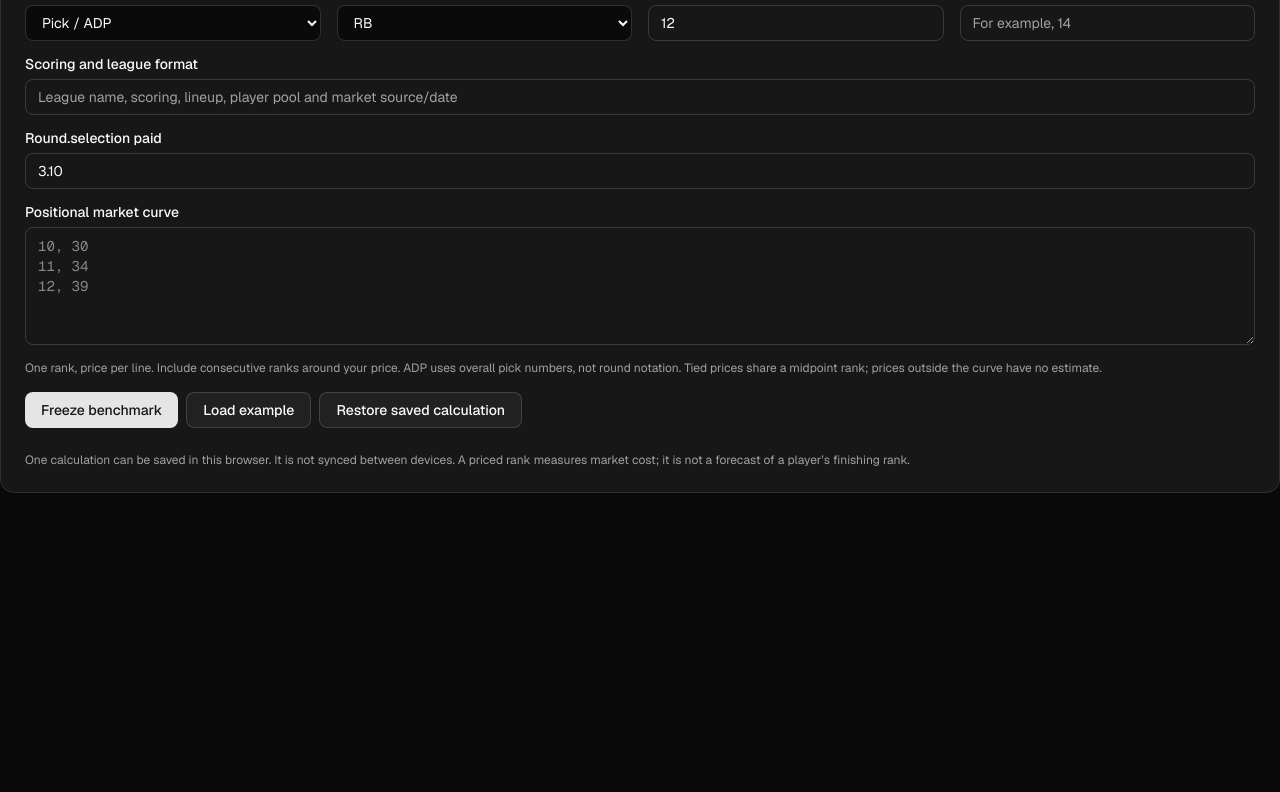
DraftValueCalculator › keeps RB11 fixed while the user records both +4 and −7 weekly outcomes
Click the button "Load example".
click(249, 410)  # box [186,392,311,428]
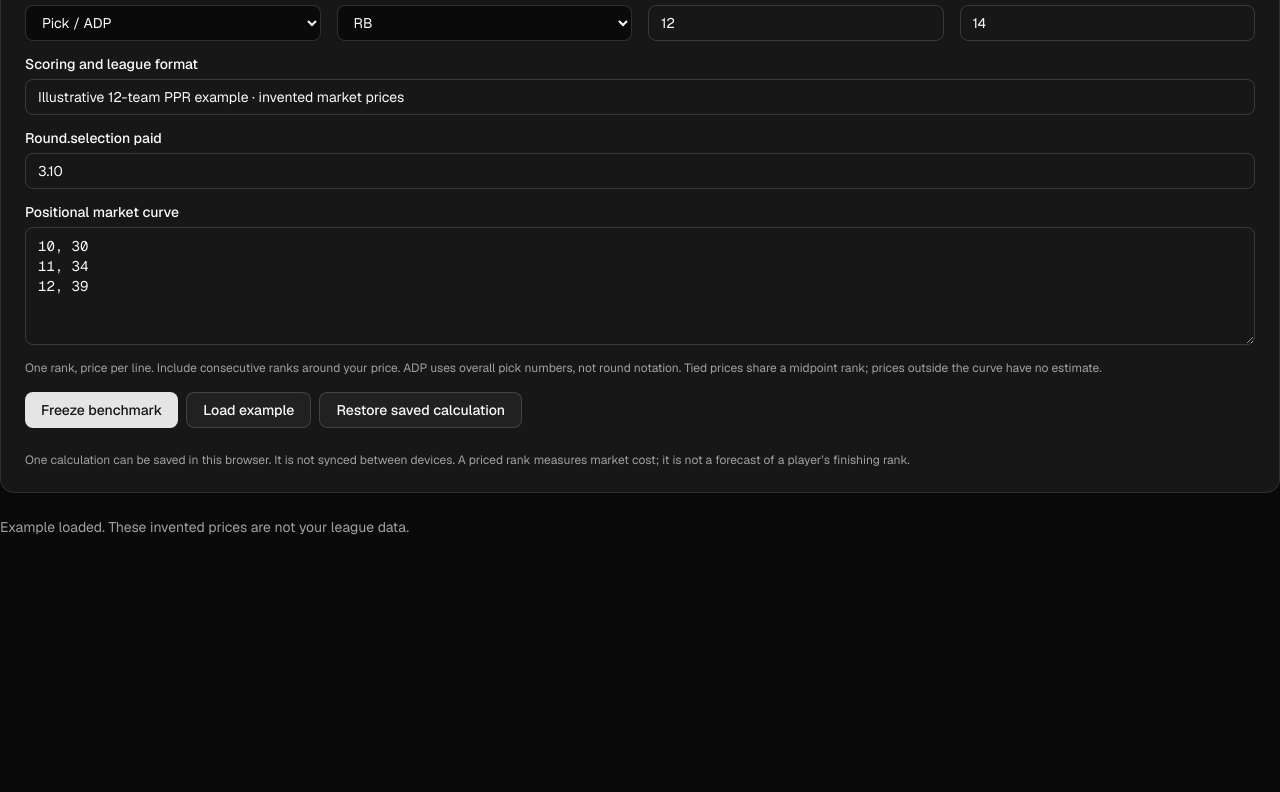
Click the button "Freeze benchmark".
click(102, 410)  # box [25,392,178,428]
(page scrolled)
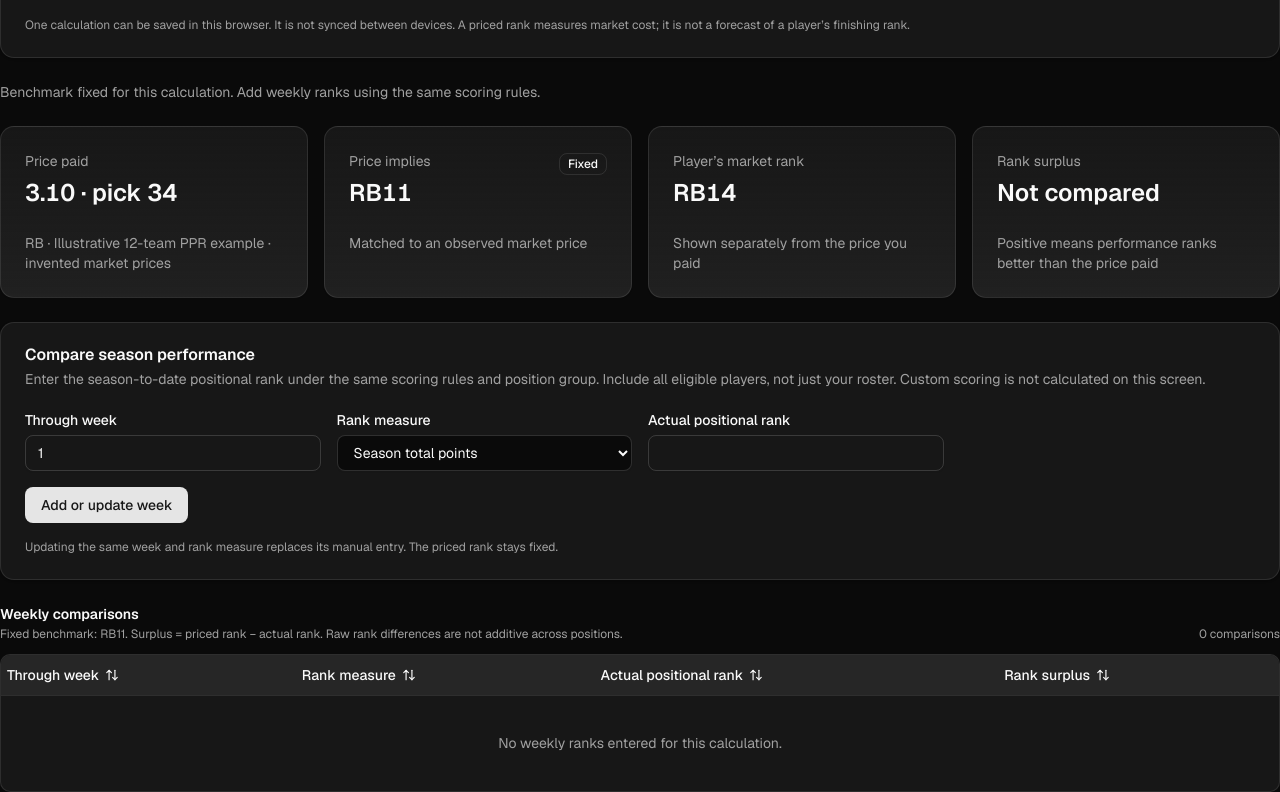
Result: the text "RB11" is shown at [349,177,412,208]
Result: the text "RB14" is shown at [673,177,736,208]
Replace the text in the field labelled "Through week" with "6" at (173, 453), box [25,435,320,471]
Type "7" into the field labelled "Actual positional rank".
click(796, 453); type("7")  # box [648,435,944,471]
Click the button "Add or update week".
click(107, 505)  # box [25,487,188,523]
(page scrolled)
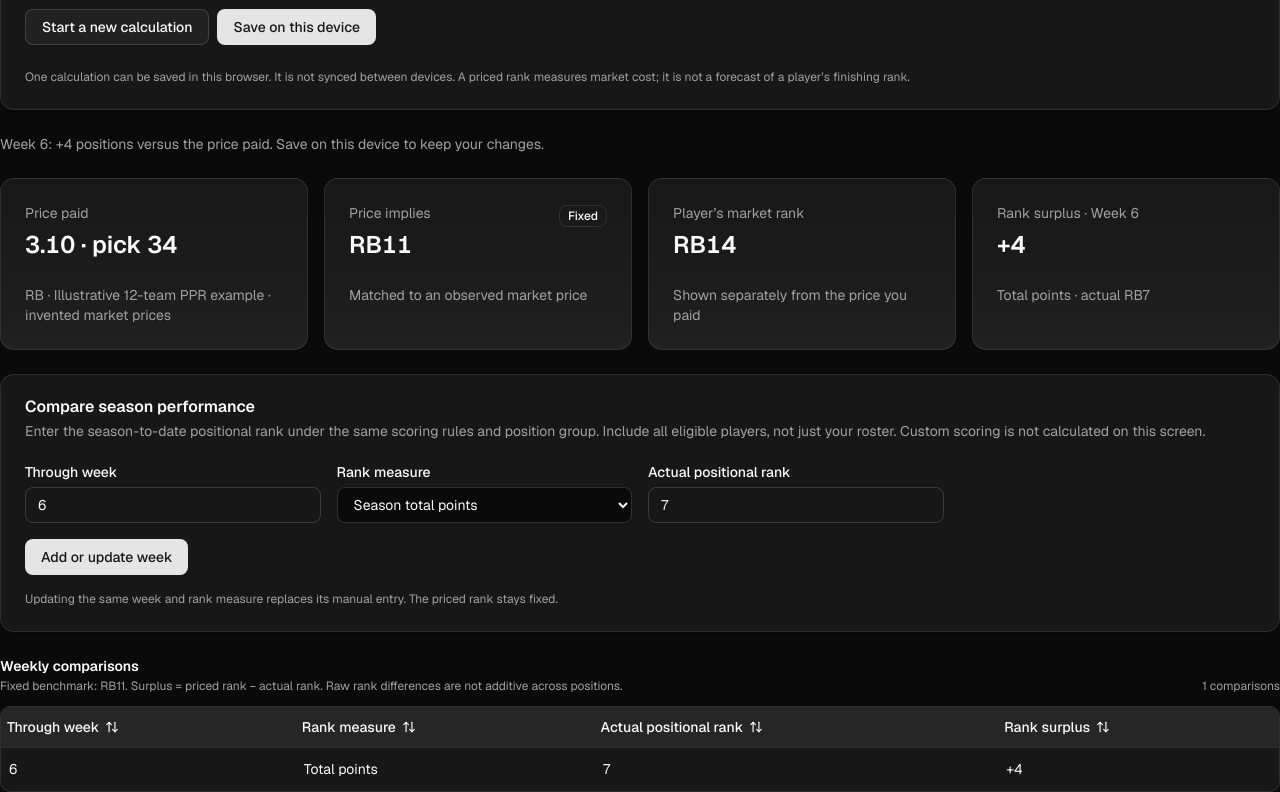
Replace the text in the field labelled "Through week" with "7" at (173, 505), box [25,487,320,523]
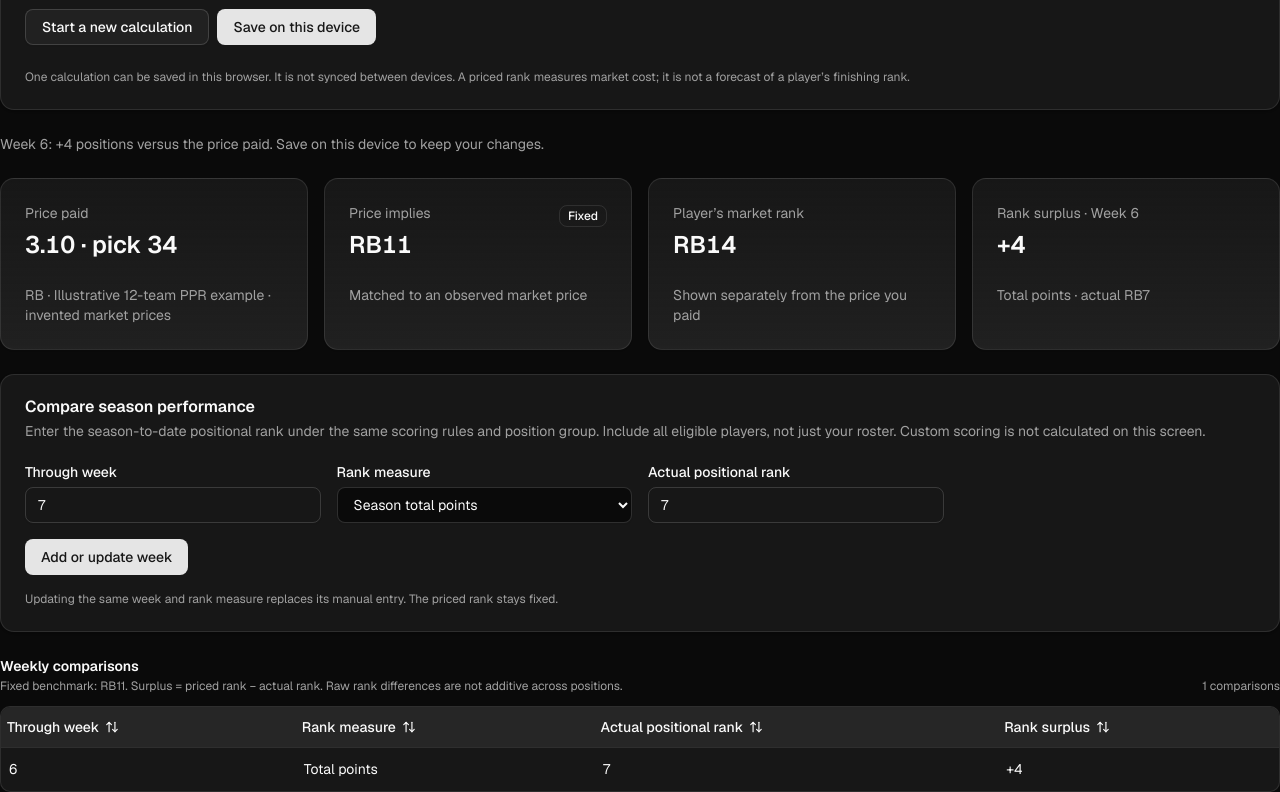
Replace the text in the field labelled "Actual positional rank" with "18" at (796, 505), box [648,487,944,523]
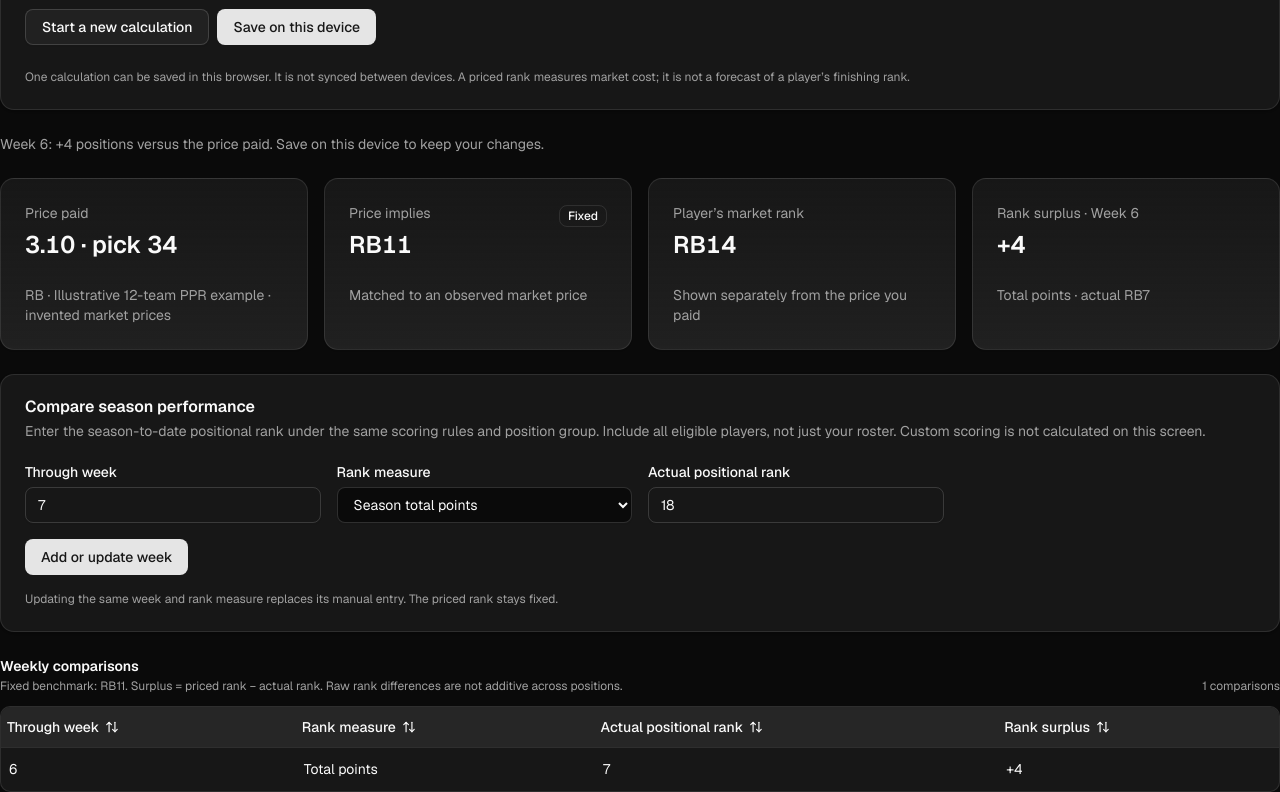
Click the button "Add or update week".
click(107, 557)  # box [25,539,188,575]
(page scrolled)
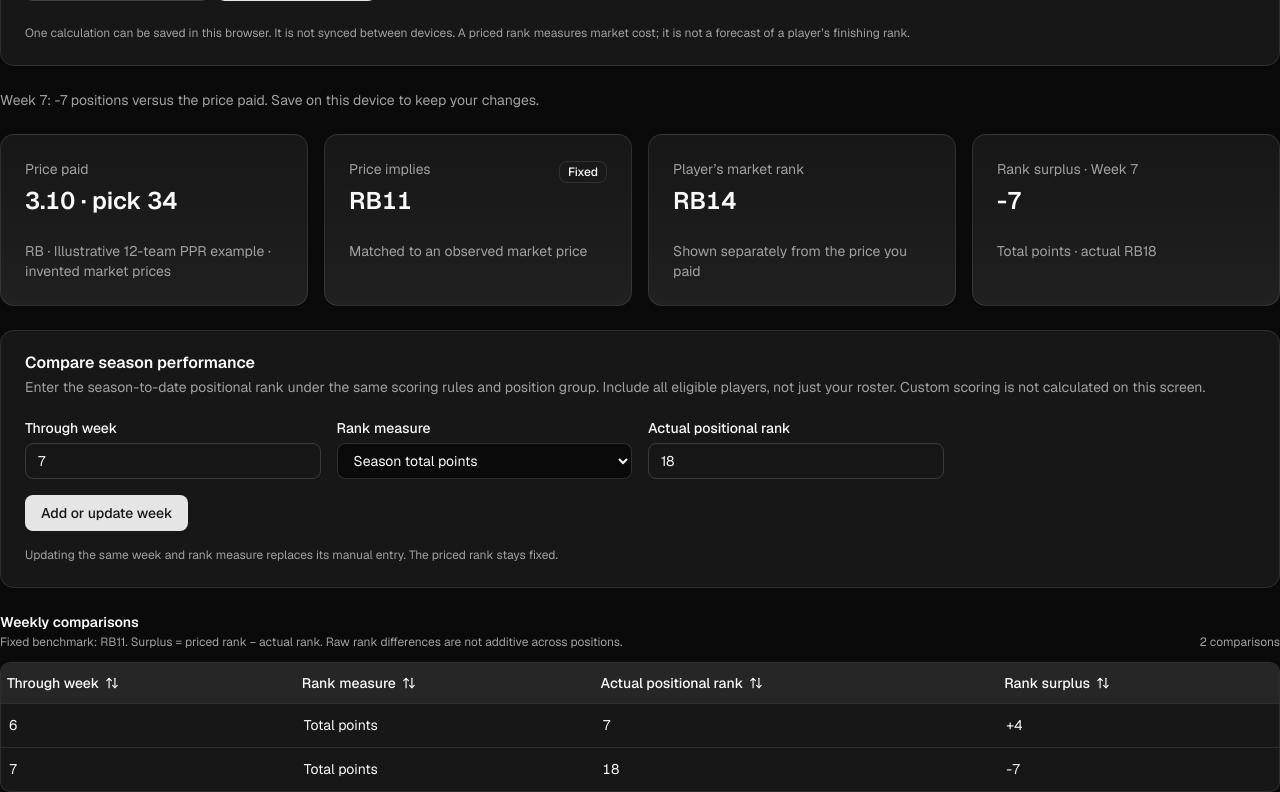
Result: the text "+4" is shown at [998,703,1279,747]
Result: the text "RB11" is shown at [349,185,412,216]
Result: the text "-7" is shown at [998,747,1279,791]
